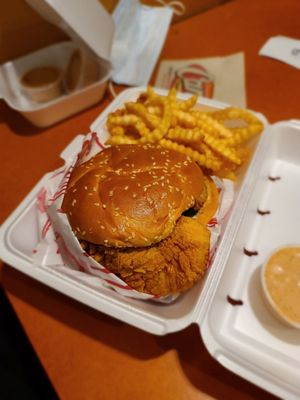curry: (0, 3, 299, 384)
